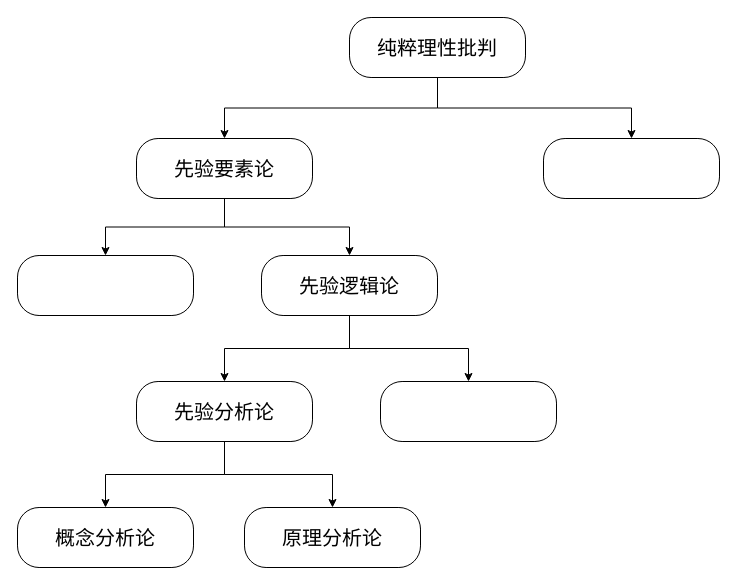
Some shapes in this 737 by 585 pixel diagram are drawn without their labels. The shapes that lost their labels are listed below. From the top down, each one's box as (x1, y1, x2, y2) in pixels, then its label:
(542, 138, 720, 198): 先验方法论
(16, 254, 194, 316): 先验感性论
(380, 380, 556, 442): 先验辩证论
